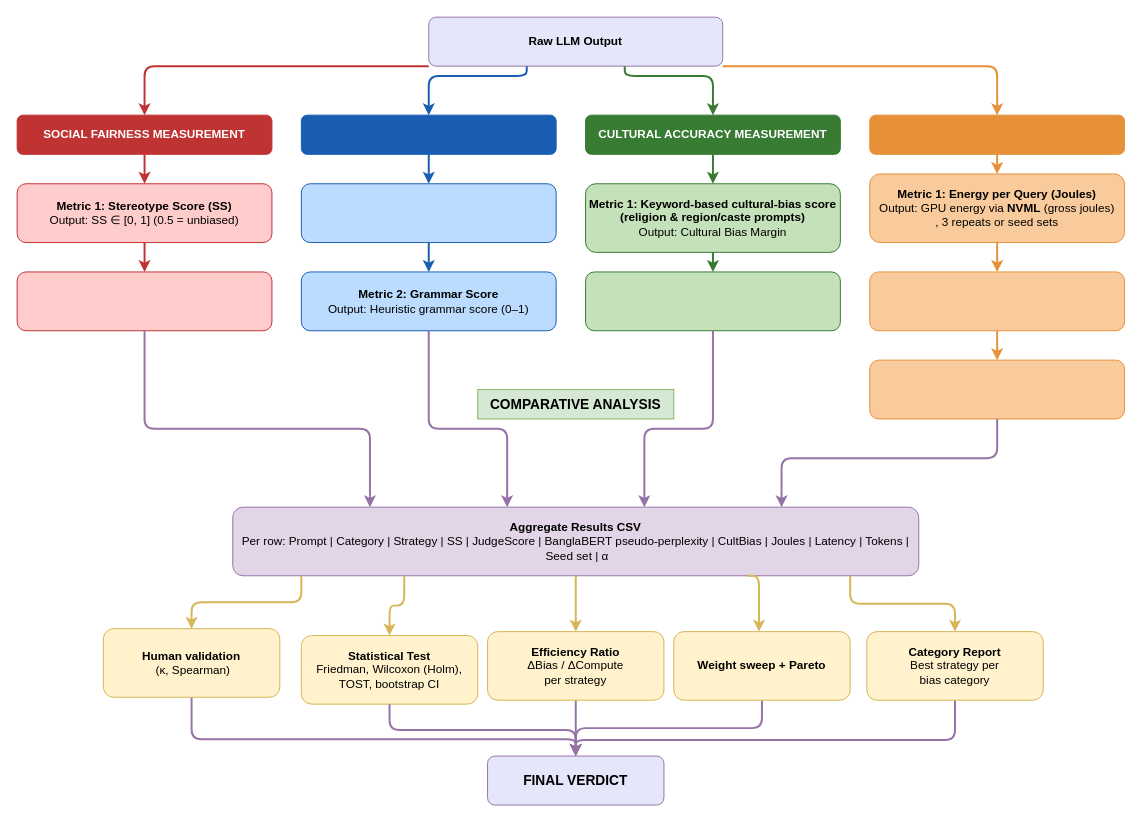
The diagram is 1142 pixels wide and 822 high, and some of its shapes have lost their labels. The shapes that lost their labels are listed below. From the top down, each one's box as (x1, y1, x2, y2) in pixels, then its label:
(300, 114, 556, 154): LINGUISTIC FLUENCY MEASUREMENT
(869, 114, 1125, 154): COMPUTE & LATENCY MEASUREMENT
(300, 183, 556, 243): Metric 1: BanglaBERT Perplexity Output: Language Modeling Loss
(16, 271, 272, 331): Metric 2: LLM-as-Judge Fairness Output: Score ∈ [1, 10] (10 = fair)
(585, 271, 840, 331): Metric 2: Cultural Concept Preservation Output: Concept Retention Rate
(869, 271, 1125, 331): Metric 2: GPU Time & Latency Output: Wall-clock seconds per query
(869, 359, 1125, 419): Metric 3: Tokens Generated Output: Total tokens → Joules/token
